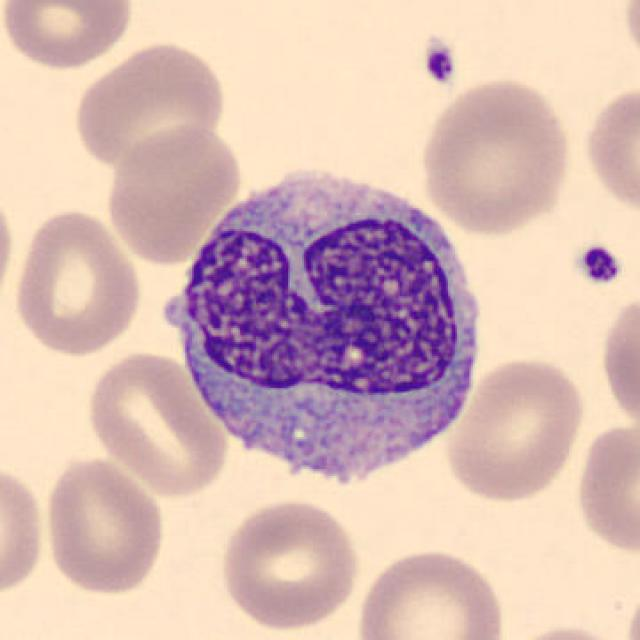Monocyte: (153, 152, 496, 504)
Platelets: (572, 240, 626, 289), (418, 35, 460, 90)
RBC: (416, 72, 576, 238), (82, 347, 231, 499), (70, 37, 230, 176), (441, 353, 588, 504), (9, 206, 146, 358), (215, 495, 365, 633), (103, 122, 245, 266), (39, 451, 169, 598), (352, 543, 510, 640), (0, 0, 135, 72), (572, 418, 638, 561), (578, 78, 640, 222), (0, 458, 48, 602), (596, 288, 638, 436), (496, 620, 631, 640), (617, 0, 640, 79), (624, 573, 640, 640)
